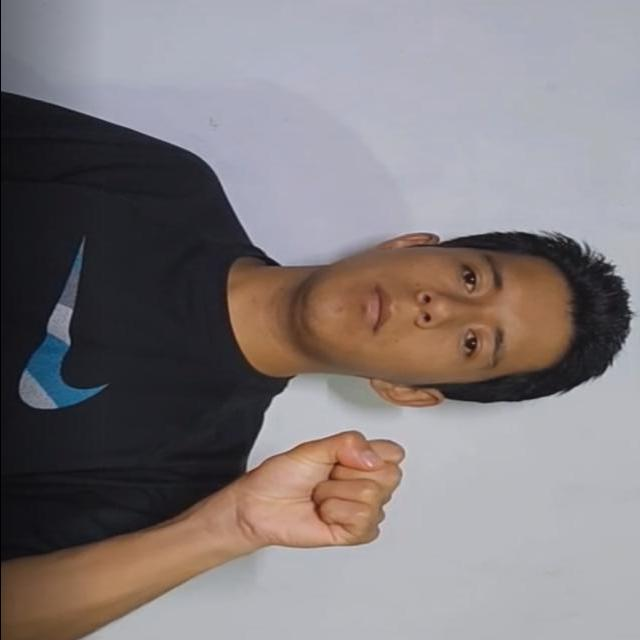S: (207, 418, 440, 578)
